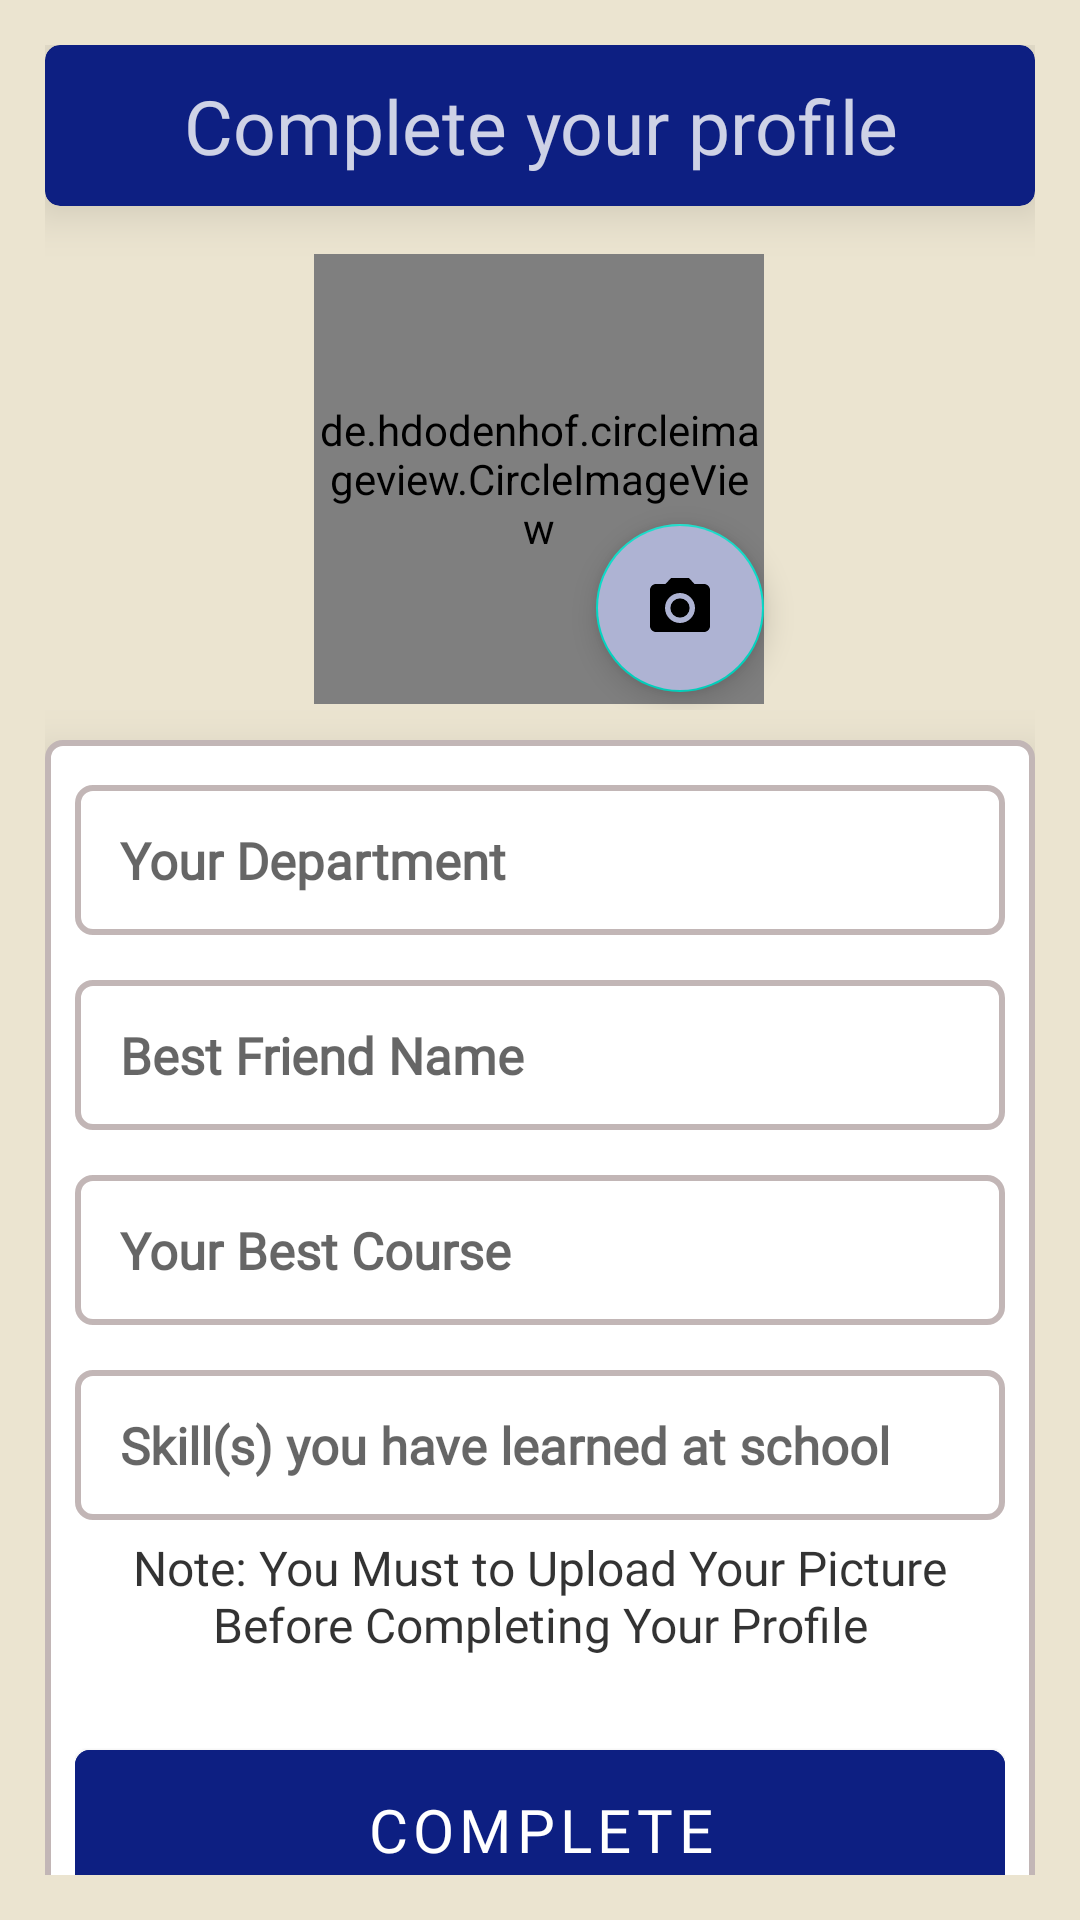

Named icons in this screenshot (1080px x 1920px) and their bounding boxes, (x1, y1, x2, y2):
camera: (596, 524, 764, 692)
